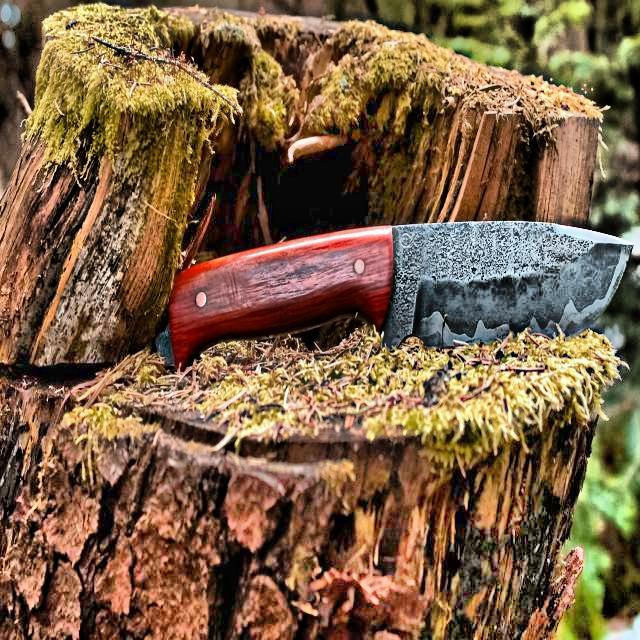knife: (169, 213, 640, 350)
